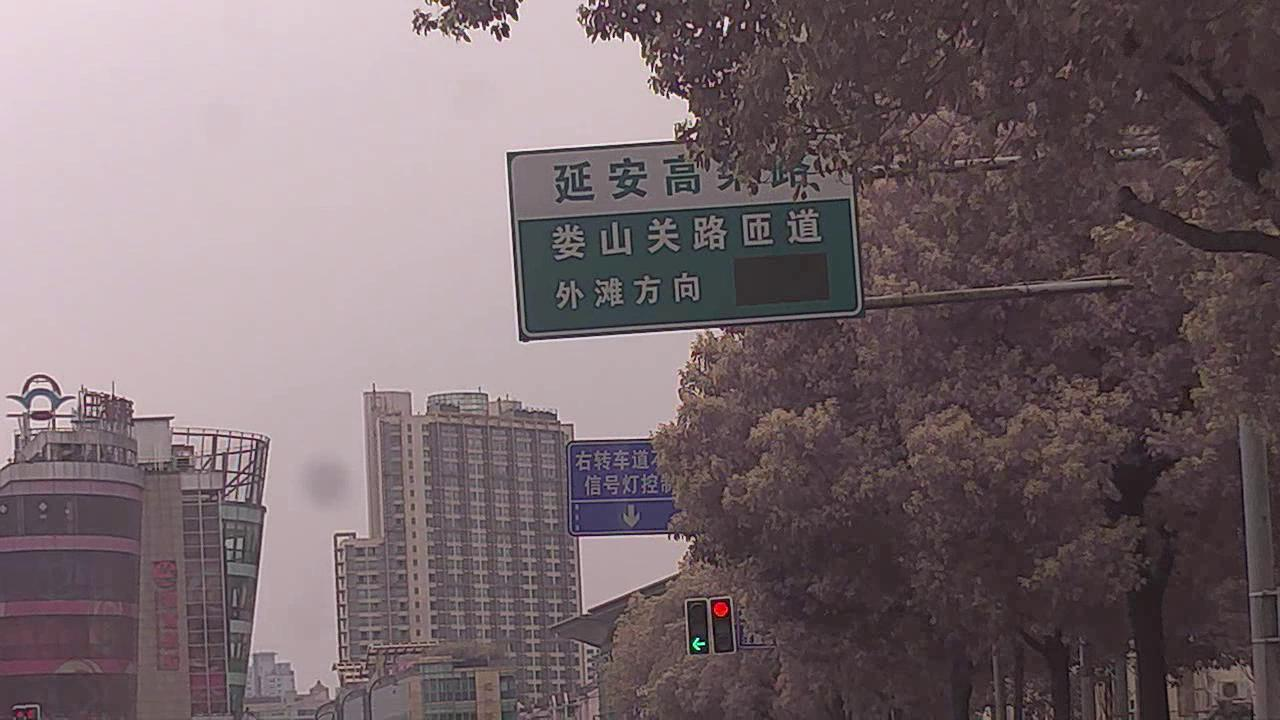traffic_light: (711, 597, 734, 653), (686, 599, 709, 651)
